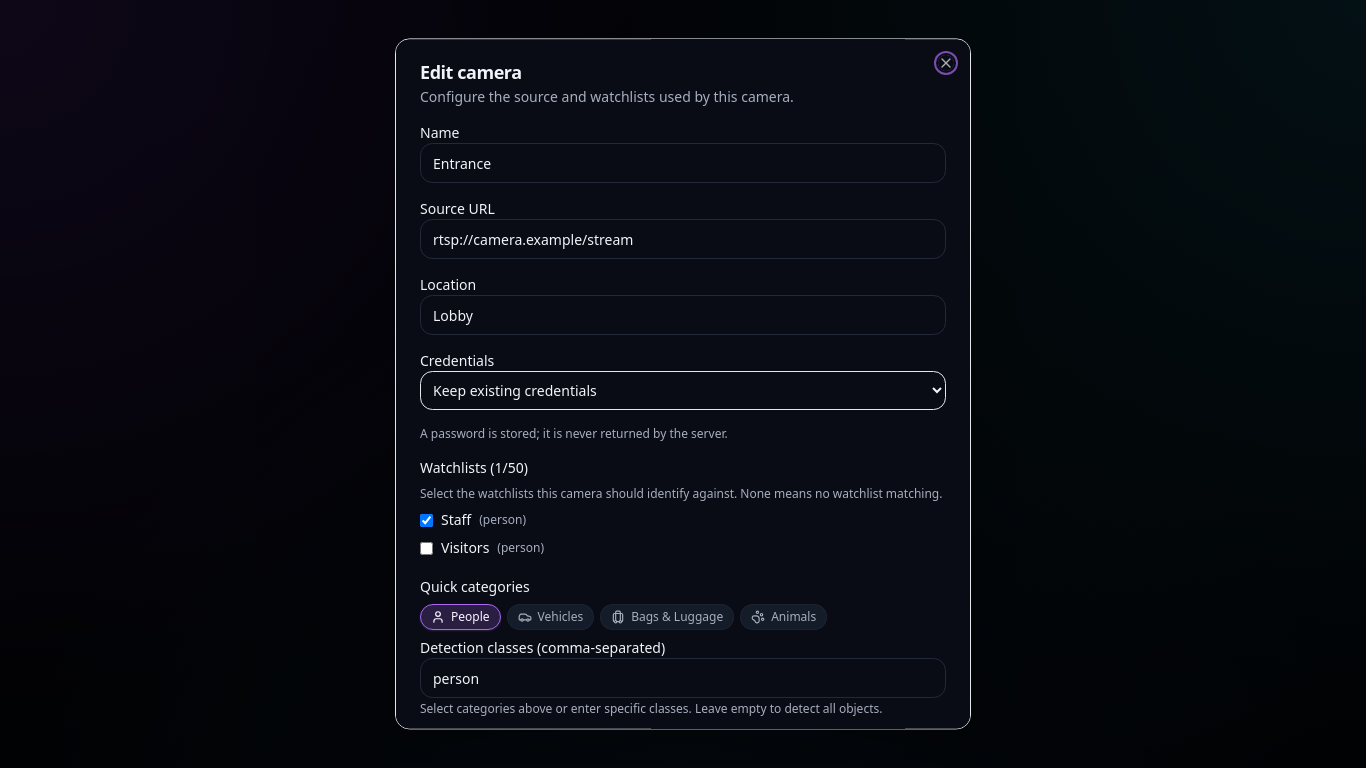
Scenario: rejects unsafe source rtsp://fake:synthetic@camera.example/stream before mutation
The width and height of the screenshot is (1366, 768).
Expected: the field labelled "Name" is shown, [420,143,946,183]
Replace the text in the field labelled "Source URL" with "rtsp://fake:synthetic@camera.example/stream" at (683, 239), box [420,219,946,259]
(page scrolled)
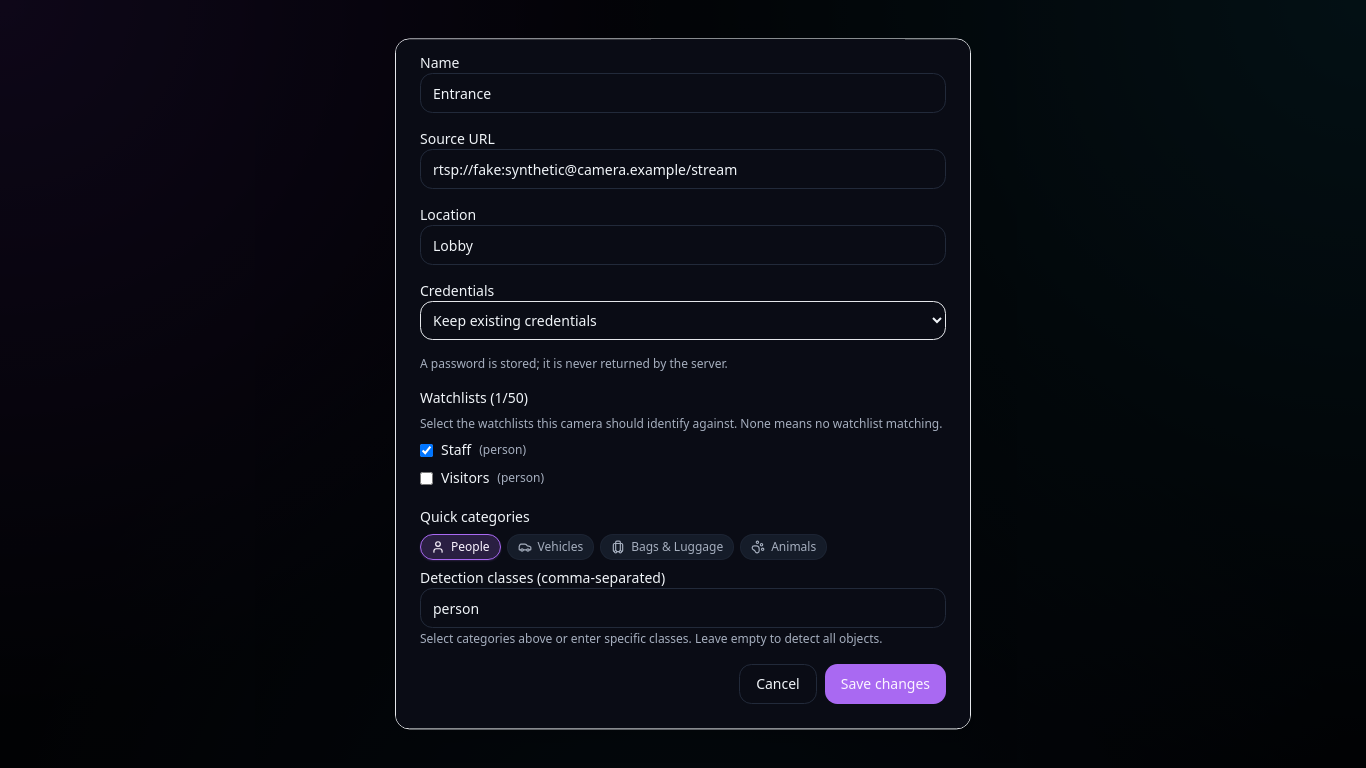
Click the button "Save changes".
click(885, 684)  # box [825,664,946,704]
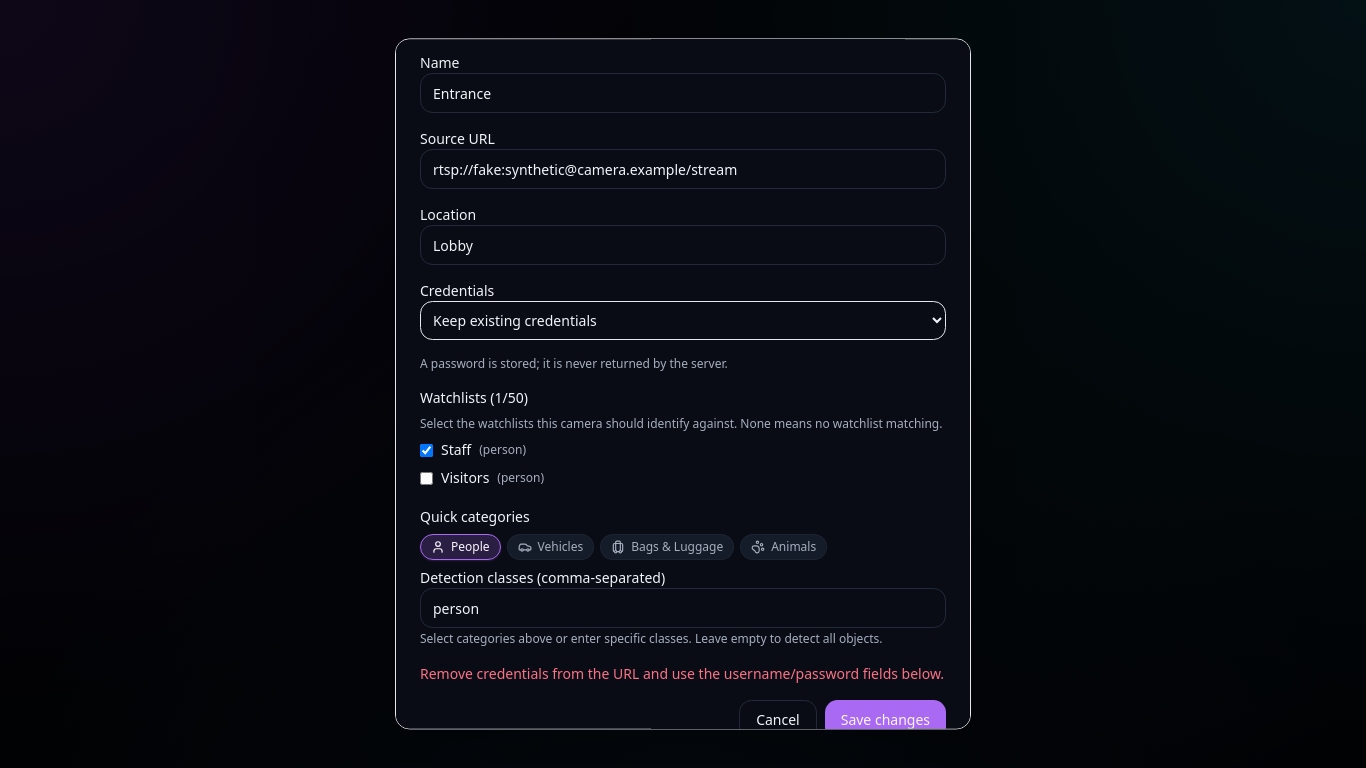
Result: the message "Remove credentials from the URL and use the username/password fields below." is shown at [420,664,946,684]
